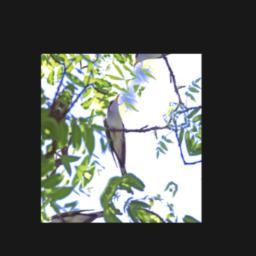Cuckoo: (79, 90, 166, 194)
